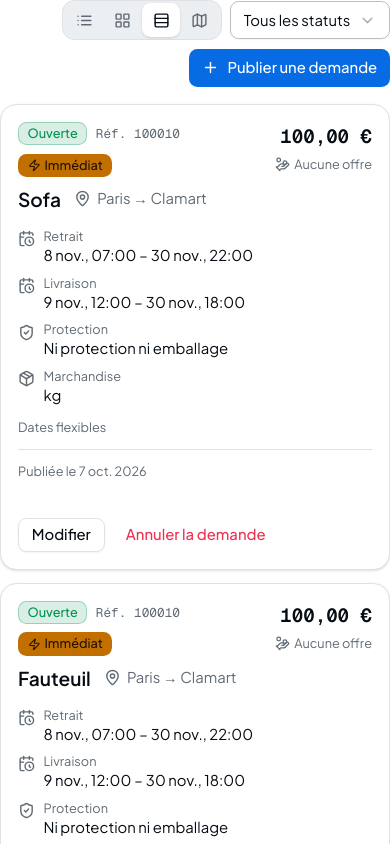
Test: MyRequestsPanel views › switches to one line per request, and remembers it
Click the button named "Liste" at x=85, y=20, box [65,3,104,37]
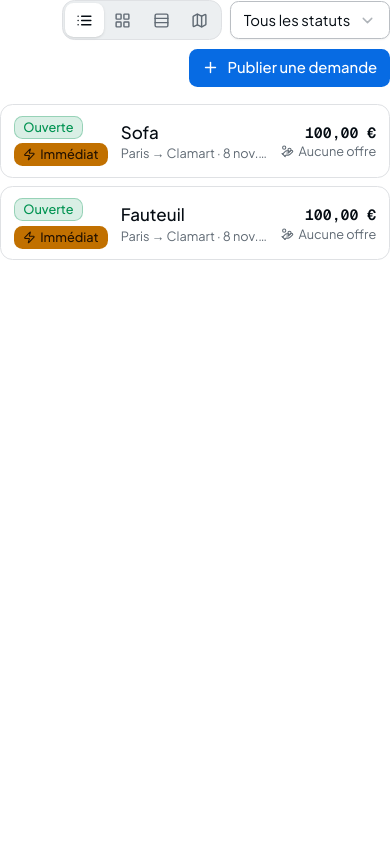
Now the number of links with test id "request-compact-row" is 2, box [0,104,389,178]; [0,186,389,260]
